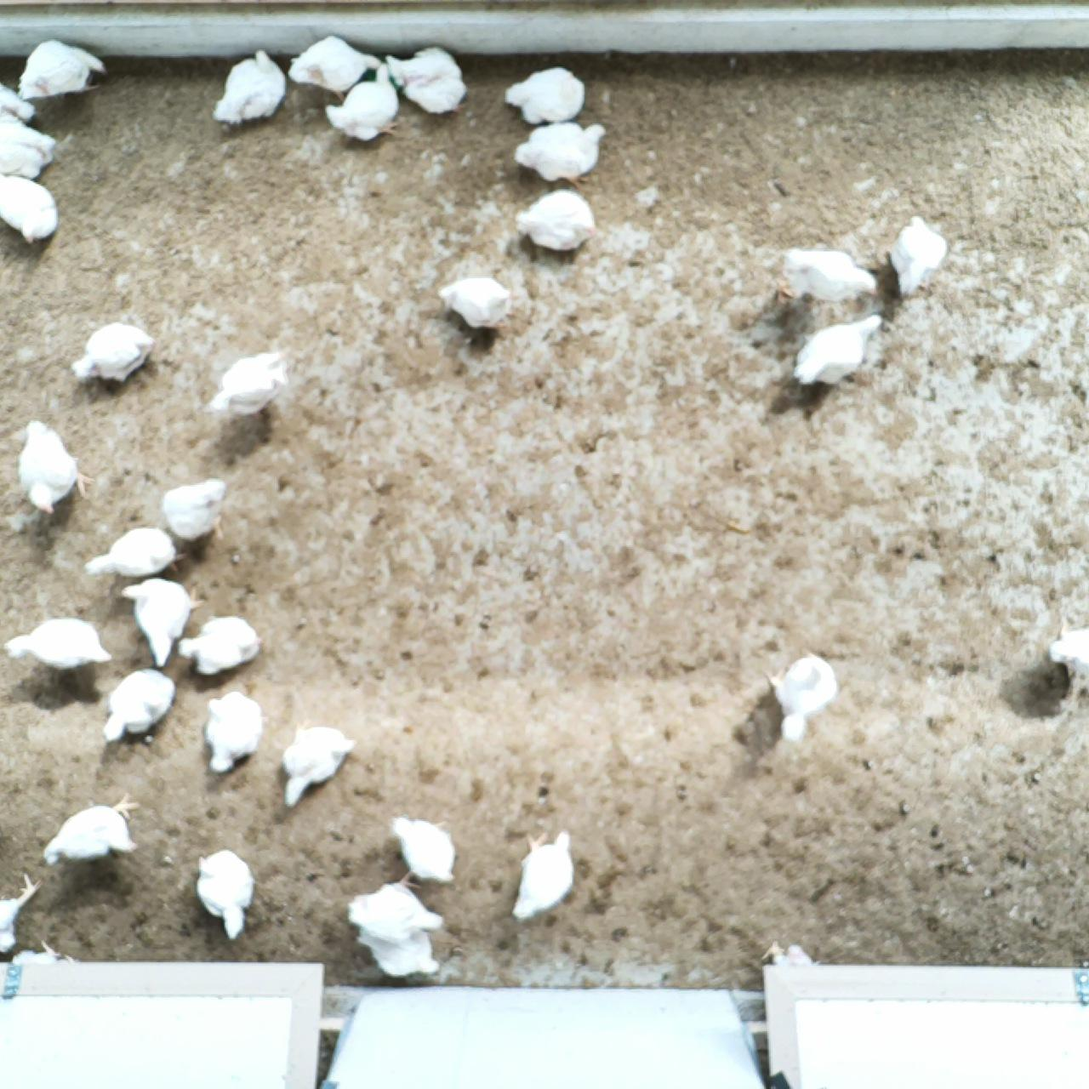chicken: (114, 580, 208, 673), (11, 418, 100, 512), (14, 32, 121, 109), (790, 308, 887, 391), (43, 789, 145, 867), (278, 716, 359, 807), (208, 43, 292, 128), (285, 33, 385, 104), (342, 878, 449, 944), (768, 647, 843, 740), (510, 119, 609, 189), (1, 613, 113, 672), (196, 688, 271, 776), (101, 664, 181, 746), (775, 244, 884, 304), (381, 44, 473, 115), (514, 184, 601, 259), (80, 521, 186, 582), (324, 60, 402, 142), (512, 825, 576, 922), (879, 213, 950, 300), (208, 347, 292, 420), (68, 320, 158, 386), (195, 848, 259, 938), (502, 62, 588, 128), (153, 475, 234, 544), (348, 923, 444, 980), (435, 270, 519, 335), (388, 812, 462, 884), (177, 616, 261, 679), (0, 175, 64, 244), (0, 103, 56, 181), (1047, 618, 1089, 689), (0, 873, 37, 952), (763, 934, 825, 976), (6, 936, 82, 966), (0, 77, 40, 123)
